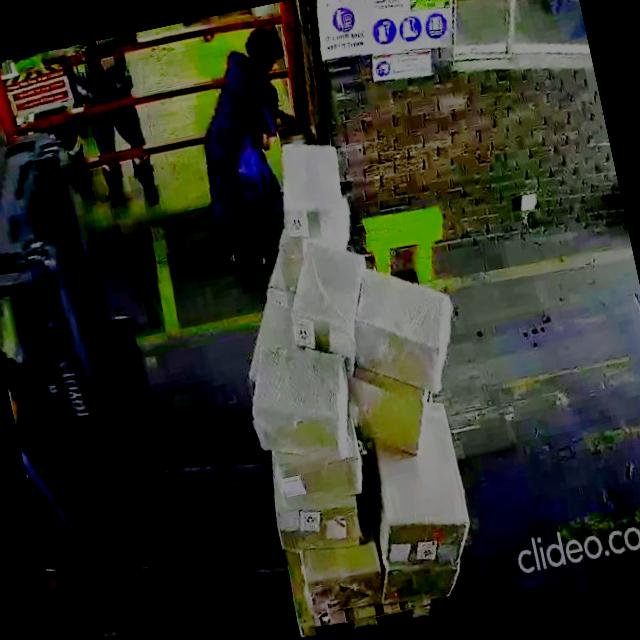Box: (236, 332, 360, 478), (346, 266, 462, 392), (370, 437, 476, 572), (276, 228, 361, 348), (344, 358, 432, 464), (268, 129, 352, 239), (300, 536, 392, 622), (273, 488, 368, 566), (271, 441, 368, 509), (380, 554, 466, 612)
